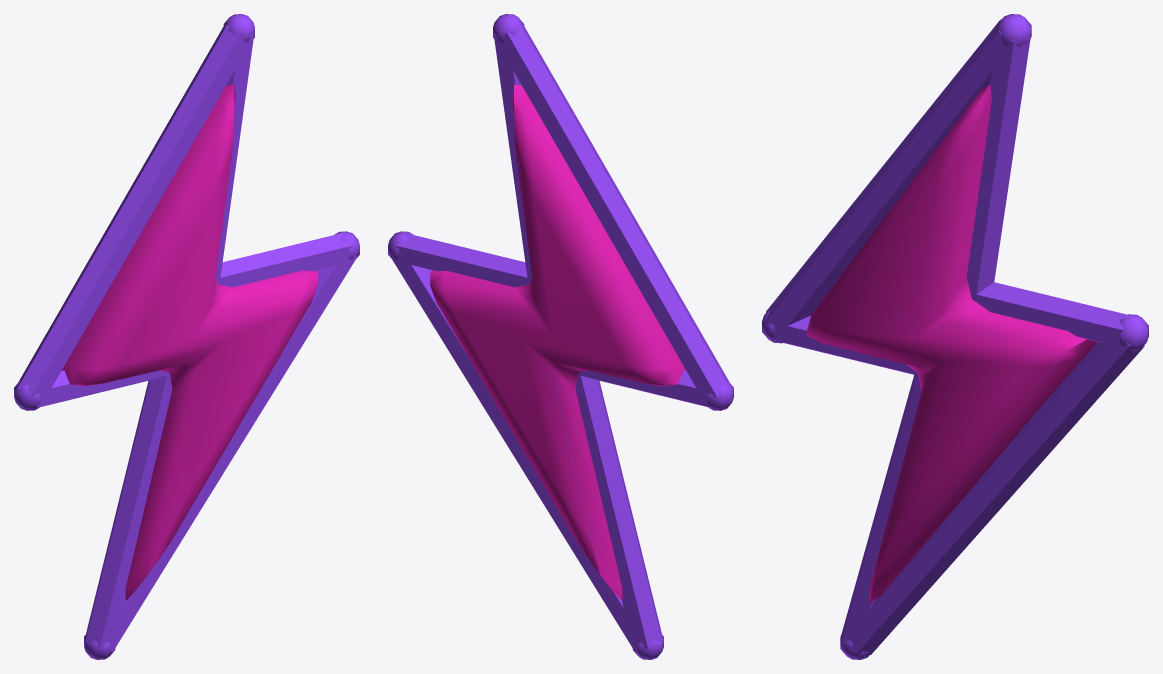
File: rn_coin.fbx
3 renders of one model, left to right at view 1: azimuth 30°, elevation 25°; view 2: azimuth 150°, elevation 25°; view 3: azimuth 330°, elevation 25°, orthographic. The views are drawn at different scales.
Parts seen in each view (by area): view 1: rn_coin; view 2: rn_coin; view 3: rn_coin.
Boxes of the visible parts, left/top/right/bottom form: rn_coin: left=14, top=14, right=359, bottom=659; rn_coin: left=388, top=14, right=733, bottom=659; rn_coin: left=762, top=14, right=1148, bottom=659.
Size of the model in its own units: 0.6943 by 1.18 by 0.16.
Materials: 2 (2 with a texture image).
